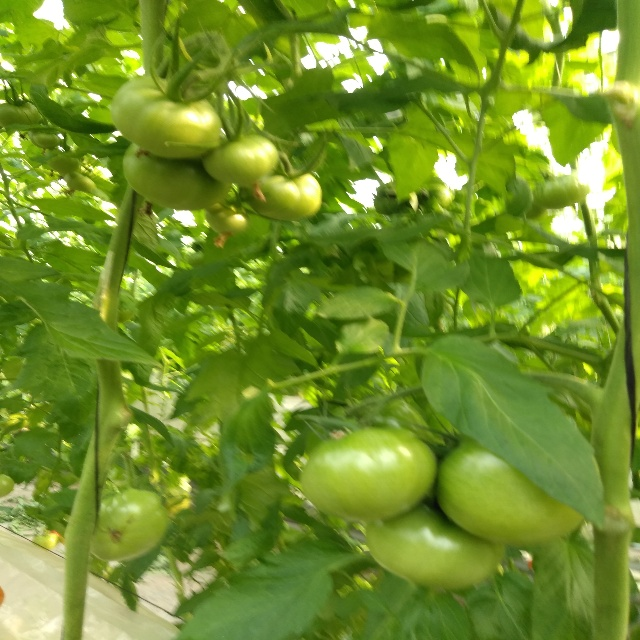b_green: (437, 434, 586, 545), (301, 425, 437, 522), (365, 497, 506, 590), (111, 76, 223, 160), (123, 142, 232, 211), (89, 489, 170, 561), (239, 164, 322, 221), (203, 134, 277, 185), (0, 101, 41, 129), (32, 132, 59, 148), (0, 475, 14, 498)
